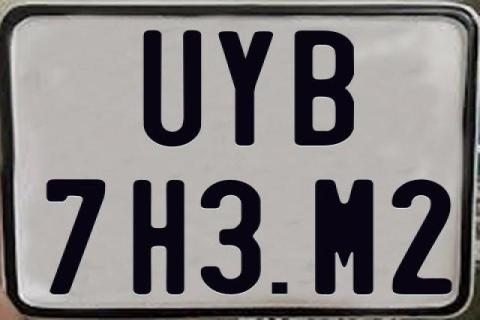0: (199, 180, 264, 298), (389, 178, 453, 294), (44, 178, 105, 294)
B: (294, 28, 358, 144)
H: (132, 178, 185, 298)
M: (315, 178, 376, 296)
U: (143, 29, 205, 149)
Y: (216, 30, 271, 146)
